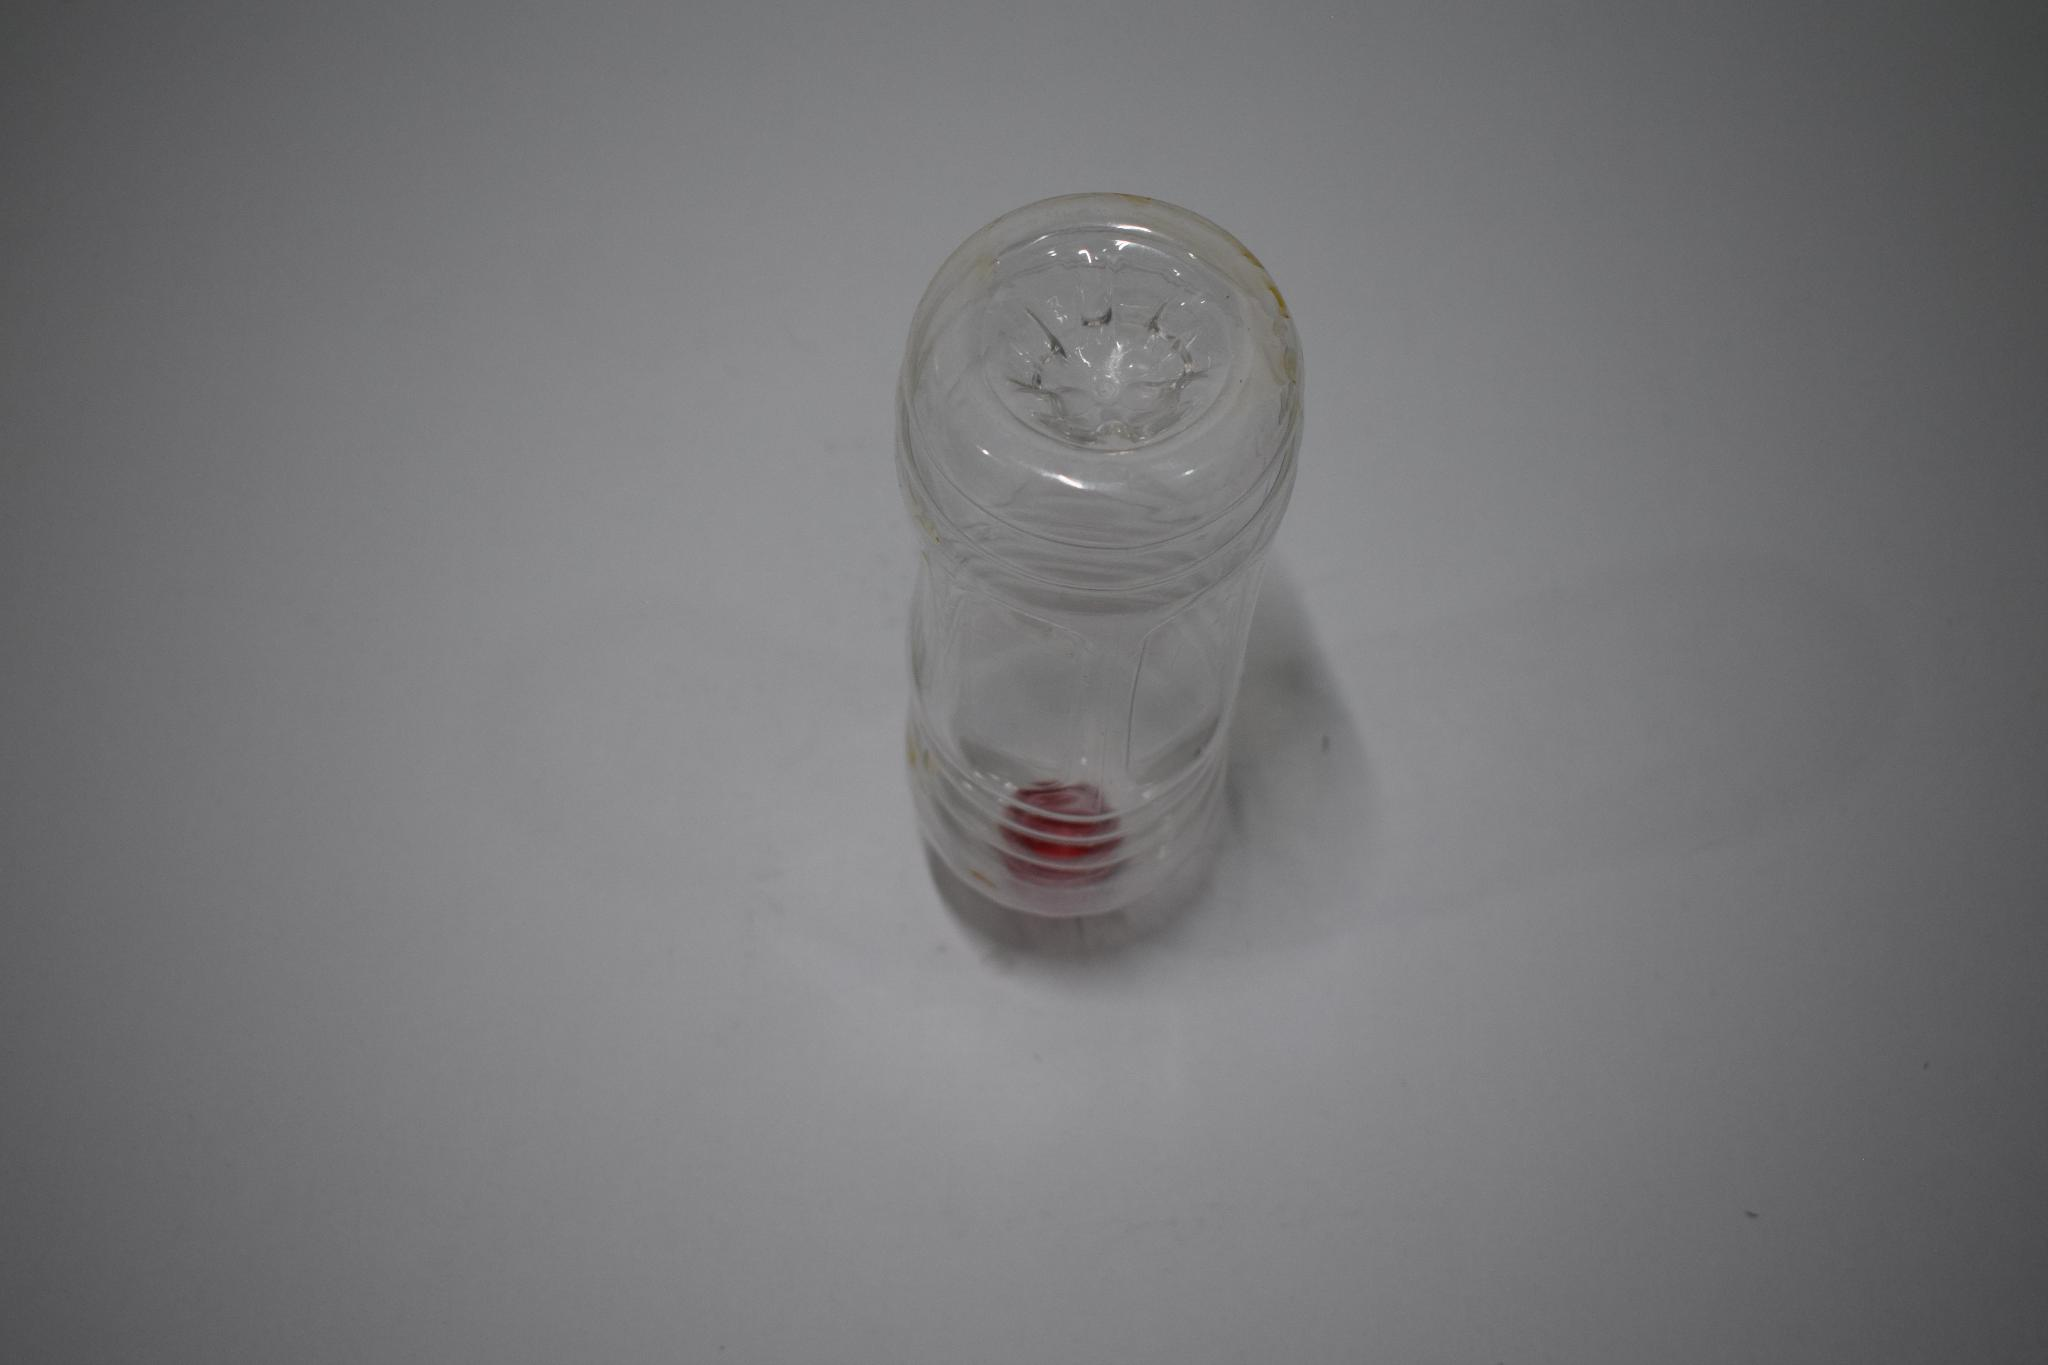bottle: (885, 195, 1316, 949)
